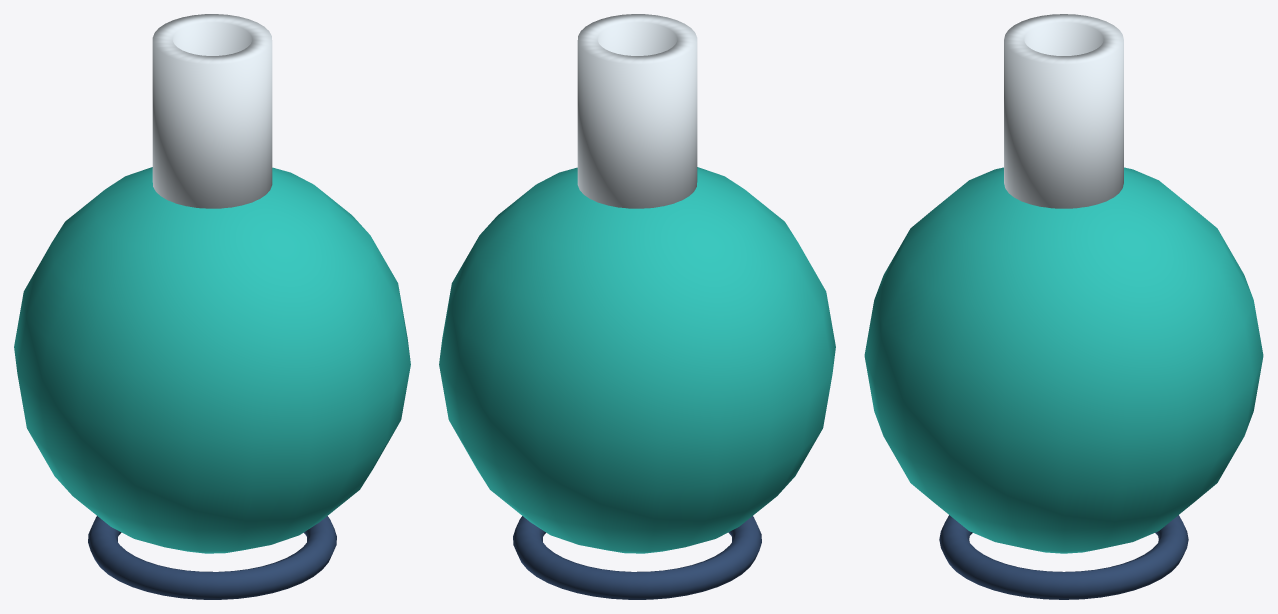
File: round-flask-lite.glb
3 renders of one model, left to right at view 1: azimuth 30°, elevation 25°; view 2: azimuth 150°, elevation 25°; view 3: azimuth 270°, elevation 25°, orthographic.
Parts seen in each view (by area): view 1: Flask body; view 2: Flask body; view 3: Flask body.
Part boxes in pixels (box(x1,y1,x2,y2)): Flask body: box(14, 14, 410, 599); Flask body: box(439, 14, 835, 599); Flask body: box(864, 14, 1263, 599).
Size of the model in its own units: 1.2 by 1.7 by 1.2.
